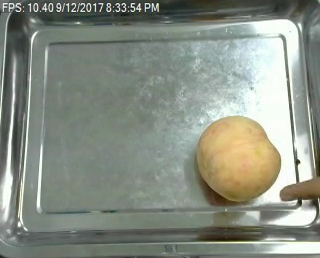Peach: (196, 116, 281, 202)
